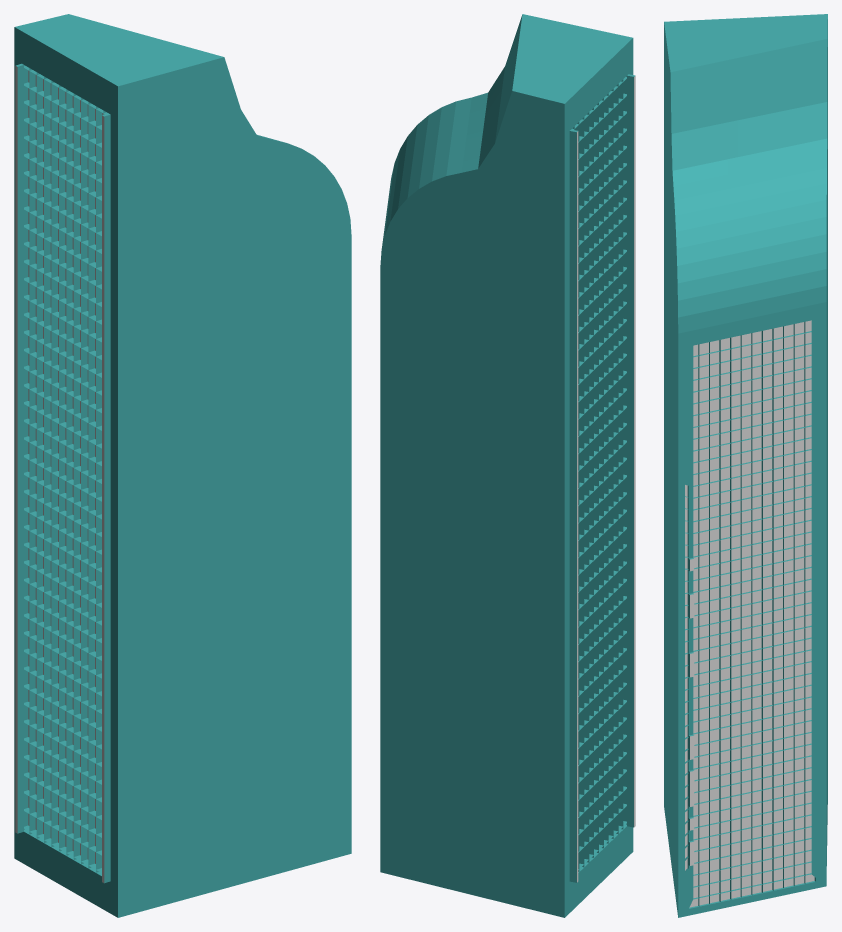
Rendered from HalifaxParkTower.fbx.
3 views of the same model, side by side, from view 1: azimuth 30°, elevation 25°; view 2: azimuth 150°, elevation 25°; view 3: azimuth 270°, elevation 25° (orthographic). The views are drawn at different scales.
Parts seen in each view (by area): view 1: HalifaxParkTower; view 2: HalifaxParkTower; view 3: HalifaxParkTower.
Part boxes in pixels (left/top/right/bottom): HalifaxParkTower: left=14, top=14, right=351, bottom=917; HalifaxParkTower: left=380, top=14, right=635, bottom=917; HalifaxParkTower: left=664, top=14, right=827, bottom=917.
Bounding box in the file's own units: 4574 × 13793 × 2608.
